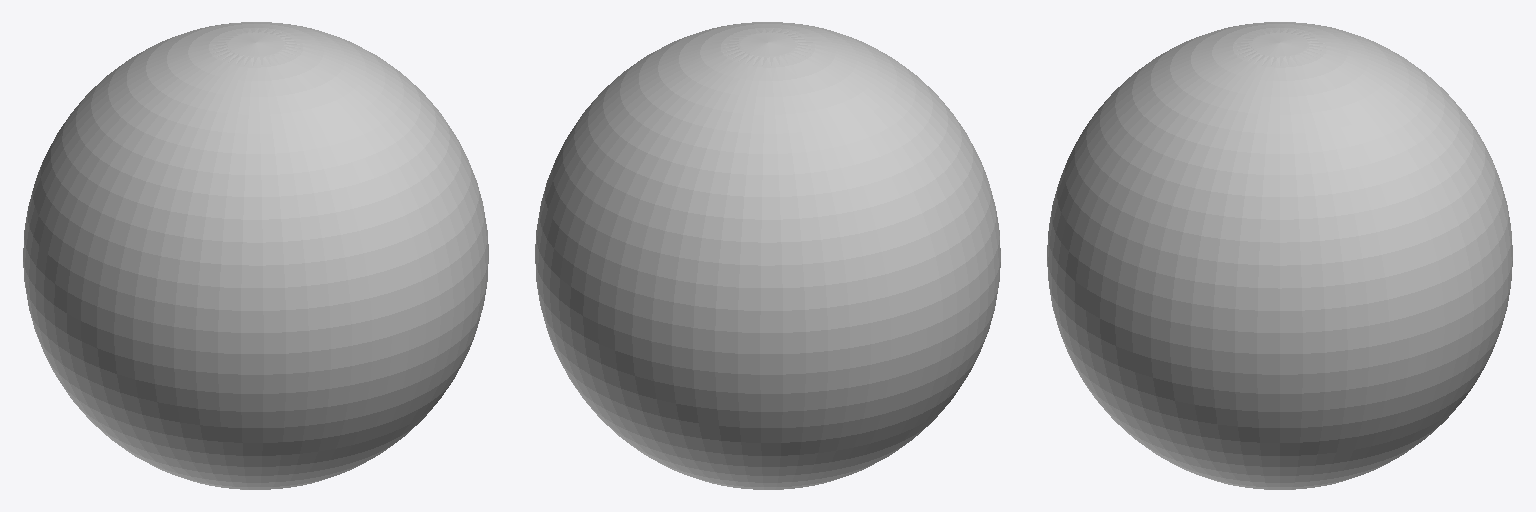
Rendered from testPlanet.obj.
The picture shows the model from 3 angles: view 1: azimuth 30°, elevation 25°; view 2: azimuth 150°, elevation 25°; view 3: azimuth 270°, elevation 25°; orthographic projection.
Parts seen in each view (by area): view 1: Sphere; view 2: Sphere; view 3: Sphere.
Part boxes in pixels (x1,y1,x2,y2): Sphere: (23,22,488,489); Sphere: (535,22,1000,489); Sphere: (1047,22,1512,489).
Size of the model in its own units: 5.1 by 5.15 by 5.1.